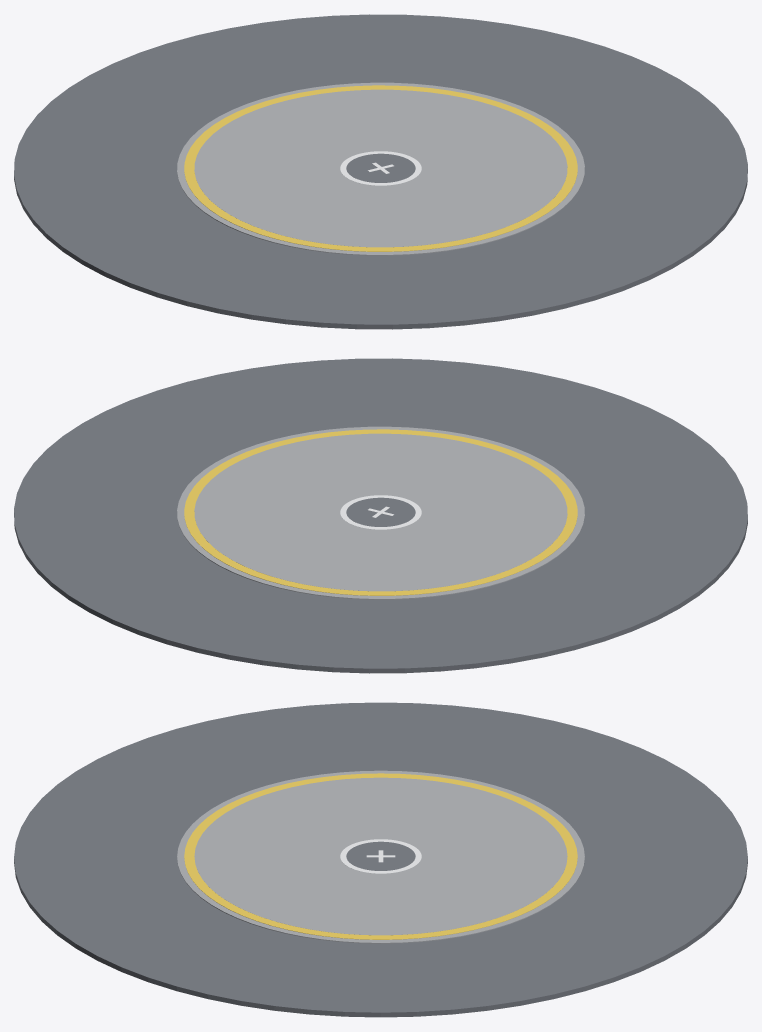
Rendered from dm100_landing_pad.glb.
The picture shows the model from 3 angles, top to bottom: view 1: azimuth 30°, elevation 25°; view 2: azimuth 150°, elevation 25°; view 3: azimuth 270°, elevation 25°; orthographic projection.
Visible parts, largest first — view 1: blast_apron, inner_concrete, outer_safety_ring, concrete_pad, bullseye_center, bullseye_ring; view 2: blast_apron, inner_concrete, outer_safety_ring, concrete_pad, bullseye_center, bullseye_ring; view 3: blast_apron, inner_concrete, outer_safety_ring, concrete_pad, bullseye_center, bullseye_ring.
Boxes of the visible parts, left/top/right/bottom form: blast_apron: left=14, top=14, right=747, bottom=329; inner_concrete: left=194, top=89, right=567, bottom=247; outer_safety_ring: left=184, top=85, right=577, bottom=251; concrete_pad: left=177, top=82, right=584, bottom=255; bullseye_center: left=346, top=153, right=415, bottom=182; bullseye_ring: left=340, top=151, right=421, bottom=185; blast_apron: left=14, top=358, right=747, bottom=673; inner_concrete: left=194, top=433, right=567, bottom=591; outer_safety_ring: left=184, top=429, right=577, bottom=595; concrete_pad: left=177, top=426, right=584, bottom=599; bullseye_center: left=346, top=497, right=415, bottom=526; bullseye_ring: left=340, top=495, right=421, bottom=529; blast_apron: left=14, top=702, right=747, bottom=1017; inner_concrete: left=194, top=777, right=567, bottom=935; outer_safety_ring: left=184, top=773, right=577, bottom=939; concrete_pad: left=177, top=770, right=584, bottom=943; bullseye_center: left=346, top=841, right=415, bottom=870; bullseye_ring: left=340, top=839, right=421, bottom=873.
Size of the model in its own units: 36 by 0.334 by 36.
